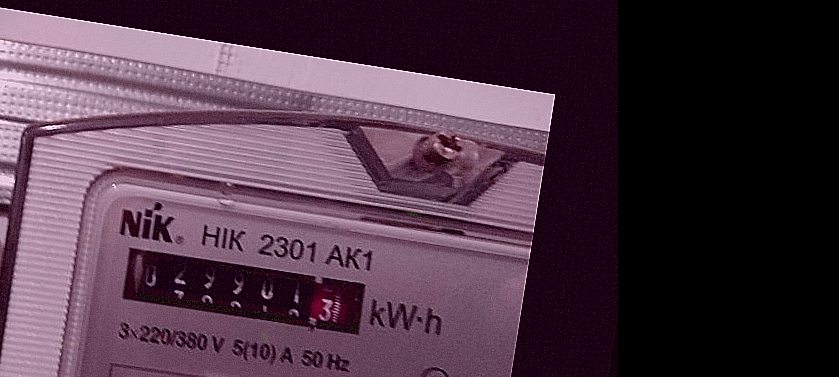0: (256, 271, 277, 302), (138, 259, 160, 288)
1: (287, 275, 304, 305)
2: (169, 257, 191, 287)
3: (314, 294, 335, 323)
9: (198, 262, 218, 291), (229, 268, 246, 297)
screen: (110, 235, 378, 346)
